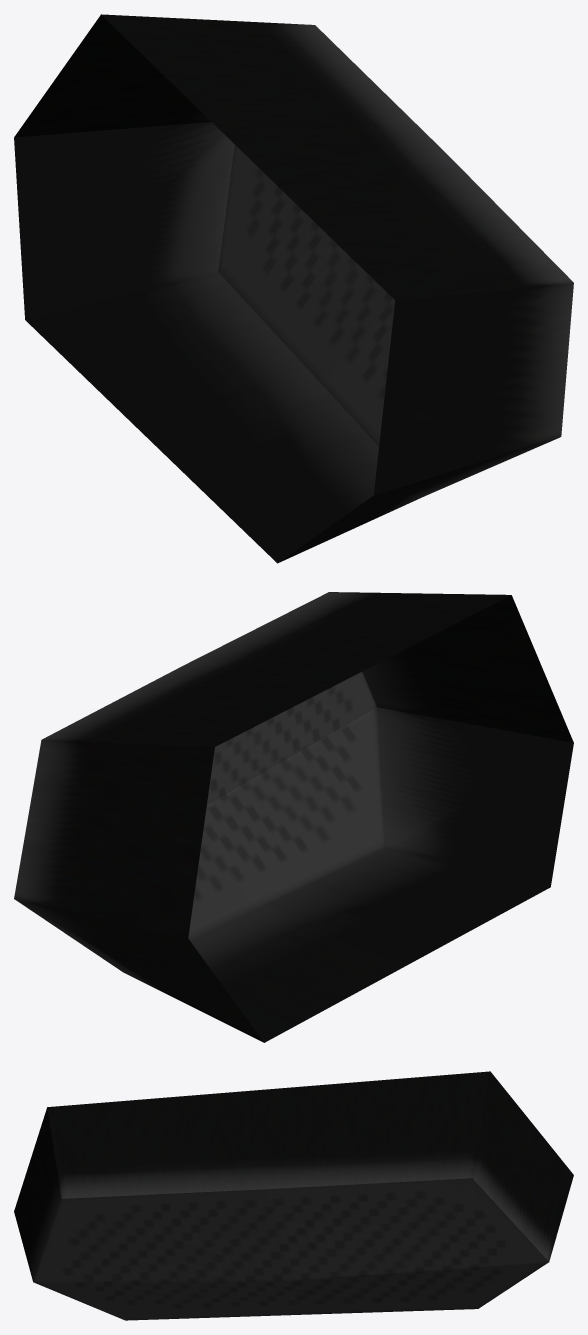
Rendered from r_grip.obj.
The picture shows the model from 3 angles, top to bottom: view 1: azimuth 30°, elevation 25°; view 2: azimuth 150°, elevation 25°; view 3: azimuth 270°, elevation 25°; orthographic projection. The views are drawn at different scales.
Visible parts, largest first — view 1: r_grip_r_grip_mesh; view 2: r_grip_r_grip_mesh; view 3: r_grip_r_grip_mesh.
Part boxes in pixels (x1,y1,x2,y2): r_grip_r_grip_mesh: (14,14,573,563); r_grip_r_grip_mesh: (14,592,573,1042); r_grip_r_grip_mesh: (14,1071,573,1320).
Bounding box in the file's own units: 0.0131 × 0.0139 × 0.0299.
1 material, 1 textured.
